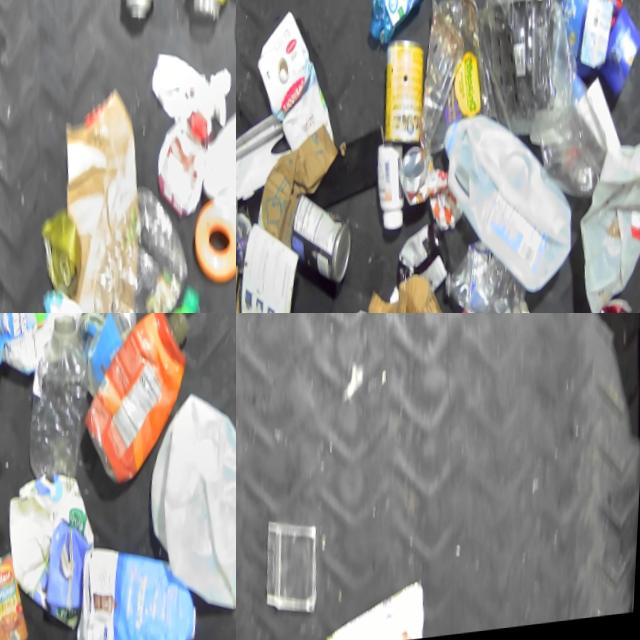can: (287, 192, 362, 293), (400, 147, 460, 232), (39, 210, 93, 304), (581, 296, 639, 313)
milk_jug: (436, 108, 583, 298), (142, 384, 236, 607), (576, 140, 640, 306), (195, 62, 236, 233)
non_white_jug: (72, 313, 208, 496), (66, 543, 211, 640), (153, 111, 225, 224), (554, 0, 630, 89)
plastic_bottle: (18, 314, 100, 498)
